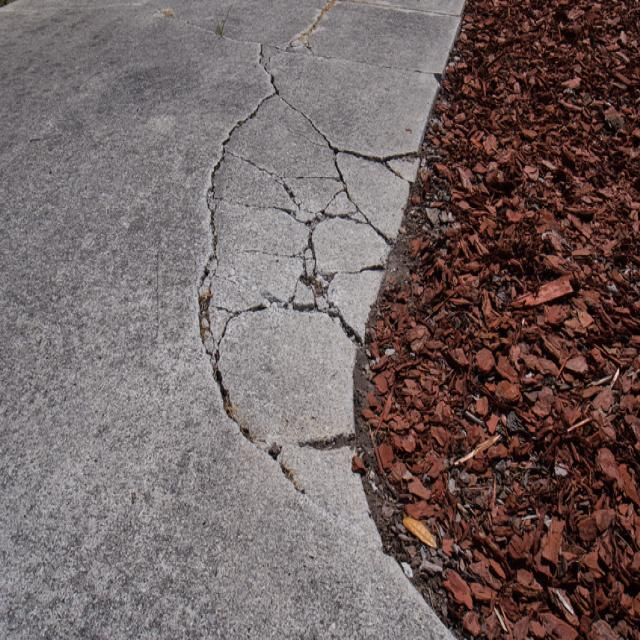Pothole: (206, 42, 474, 528)
